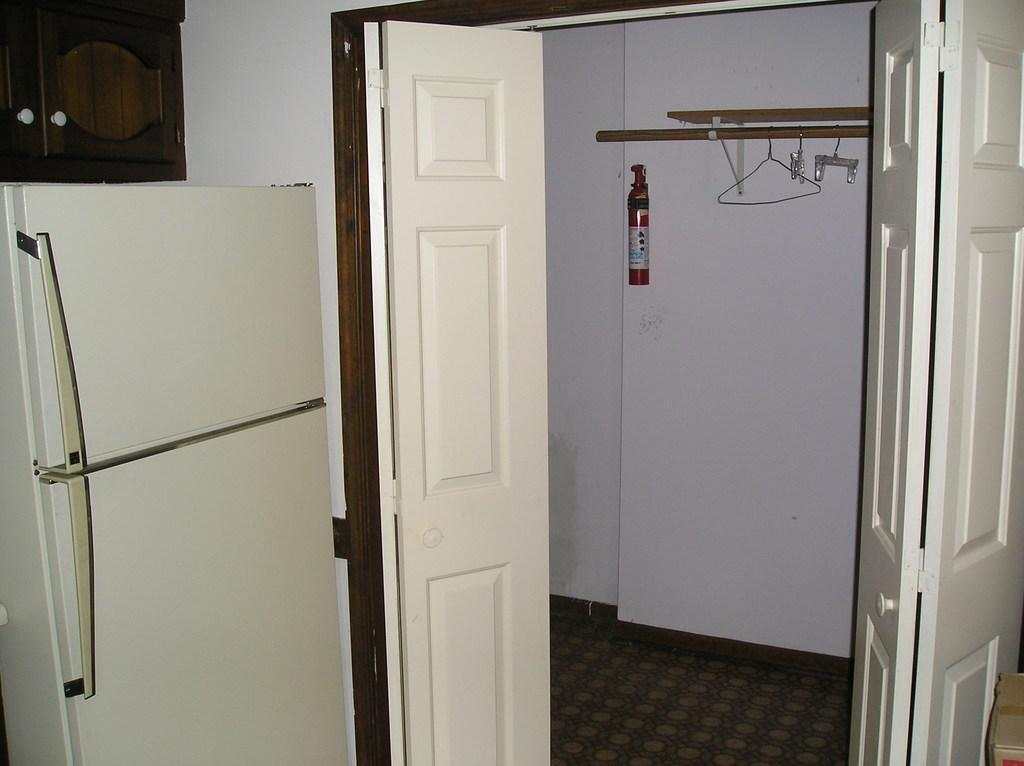door: (383, 18, 552, 765), (857, 10, 916, 766)
handle: (868, 580, 894, 628), (413, 520, 445, 555)
